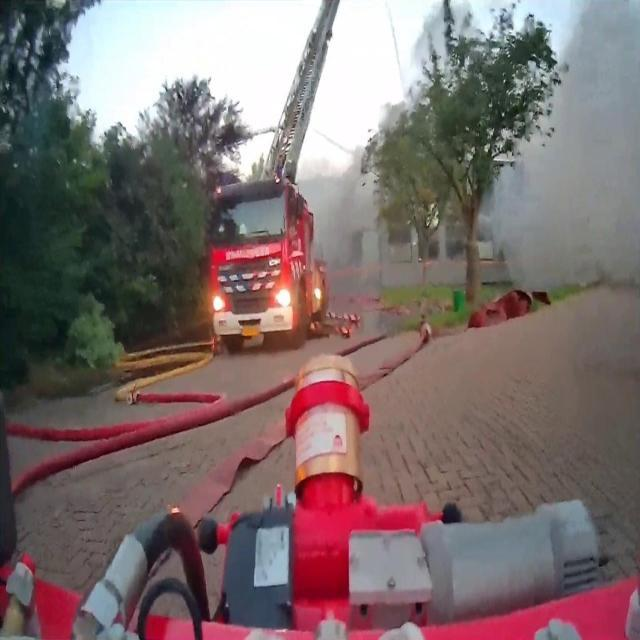Fire: (426, 202, 440, 228)
Smoke: (487, 0, 640, 292), (294, 142, 378, 305)
